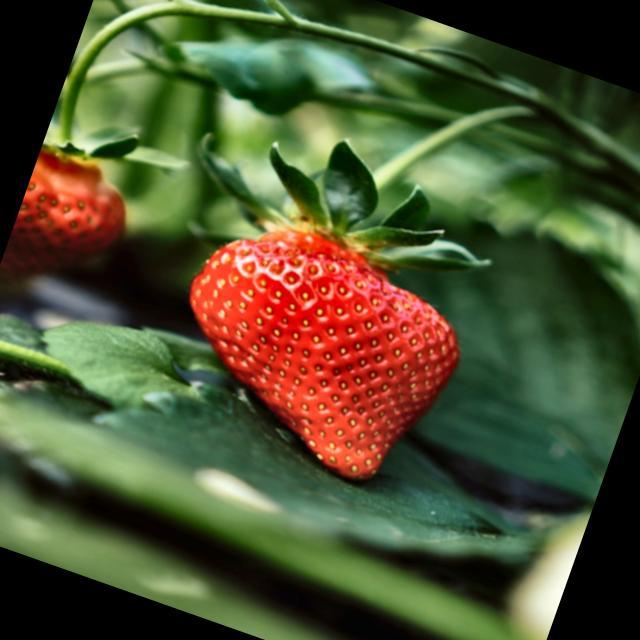strawberry: (190, 228, 459, 479), (1, 150, 125, 272)
